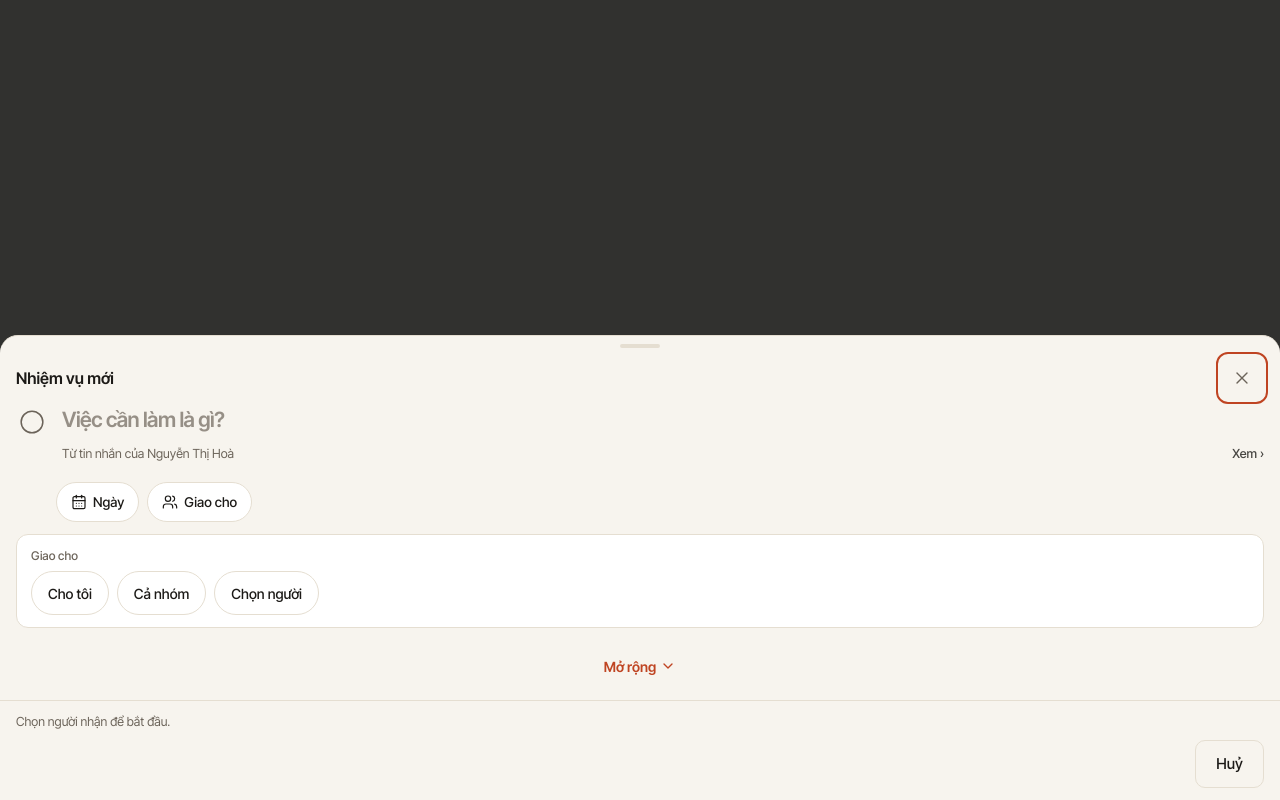
Test: the message being answered is quoted on the suggestion
Expected: the text "Từ tin nhắn của Nguyễn Thị Hoà" is shown, [62, 446, 234, 461]
Click the button "Từ tin nhắn của Nguyễn Thị Hoà Xem ›".
click(148, 453)  # box [62, 438, 1264, 470]
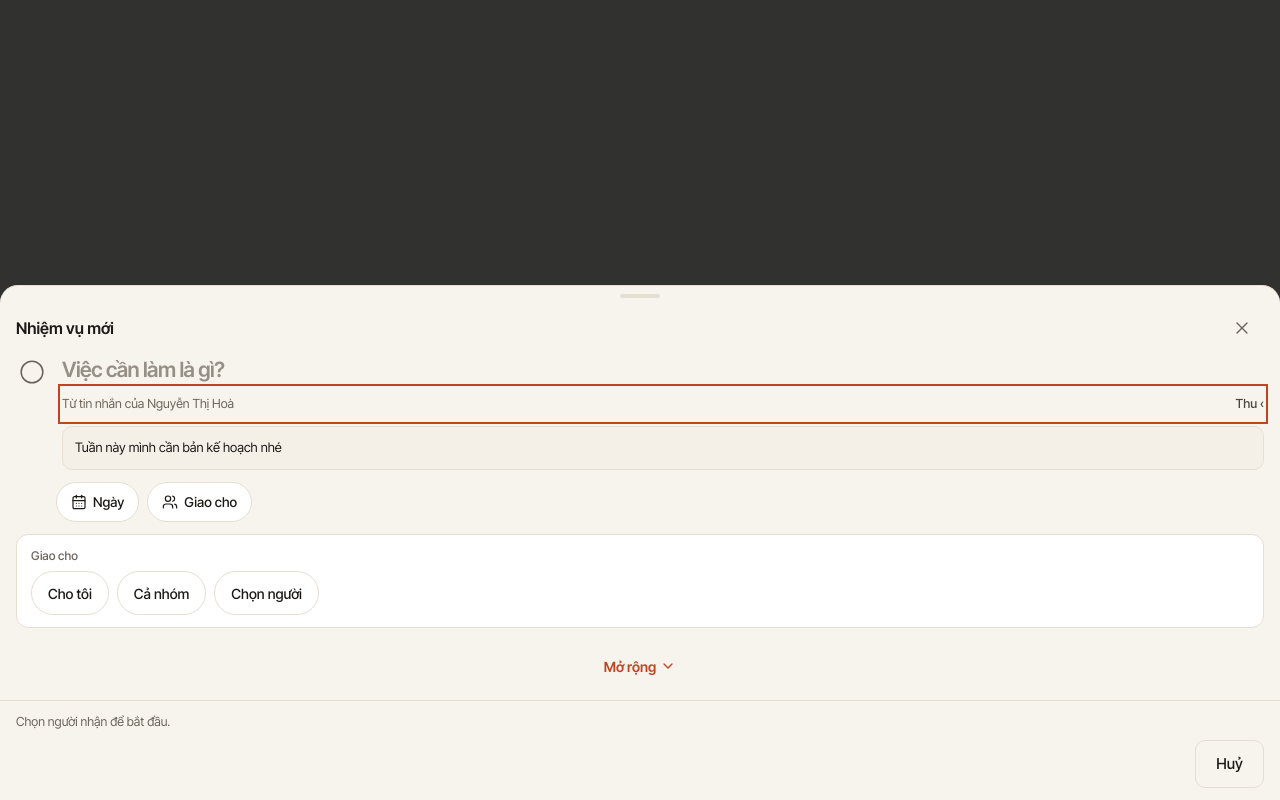
Now the text "Tuần này mình cần bản kế hoạch nhé" is shown, box [75, 439, 282, 455]
